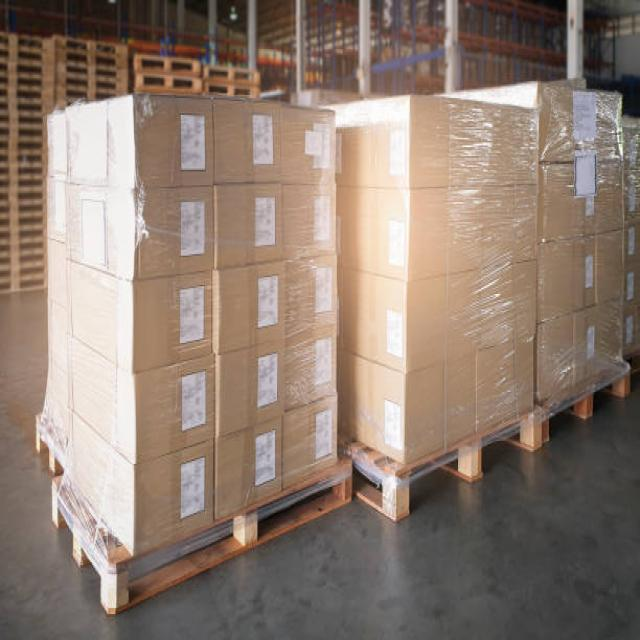Wooden-Pallets: (33, 453, 348, 623), (379, 392, 549, 548), (541, 357, 634, 461), (134, 43, 199, 87)
